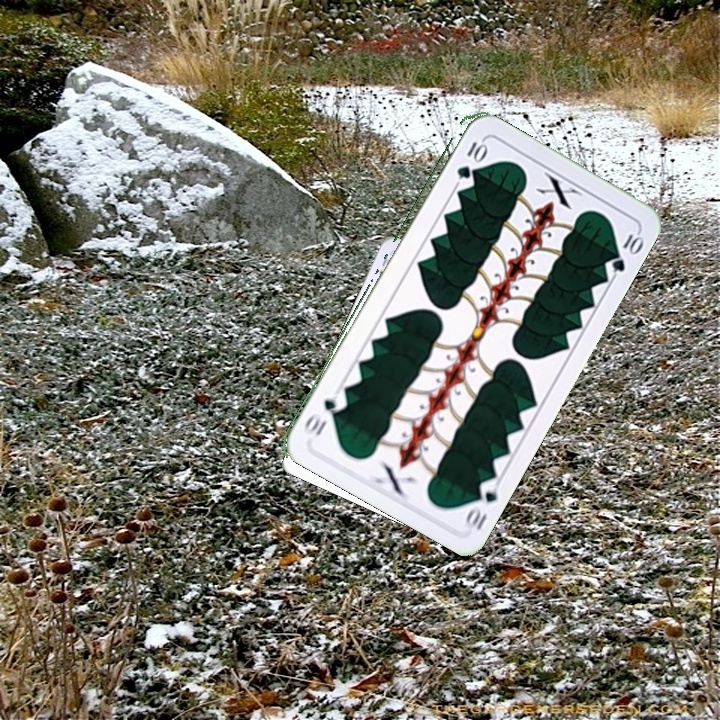G10: (460, 474, 503, 533), (452, 137, 487, 182)
